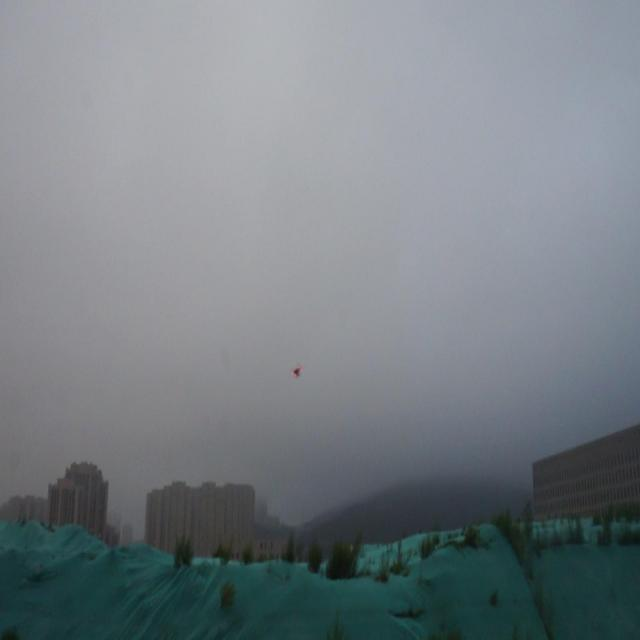UAV: (290, 364, 303, 377)
